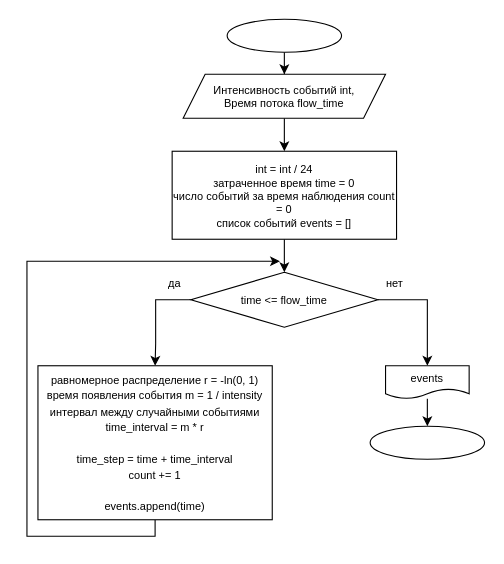
Some shapes in this 504 by 564 pixel diagram are drawn without their labels. Each missing label, with the box of its shape:
Конец: (369, 425, 485, 459)
Начало: (226, 18, 342, 52)
